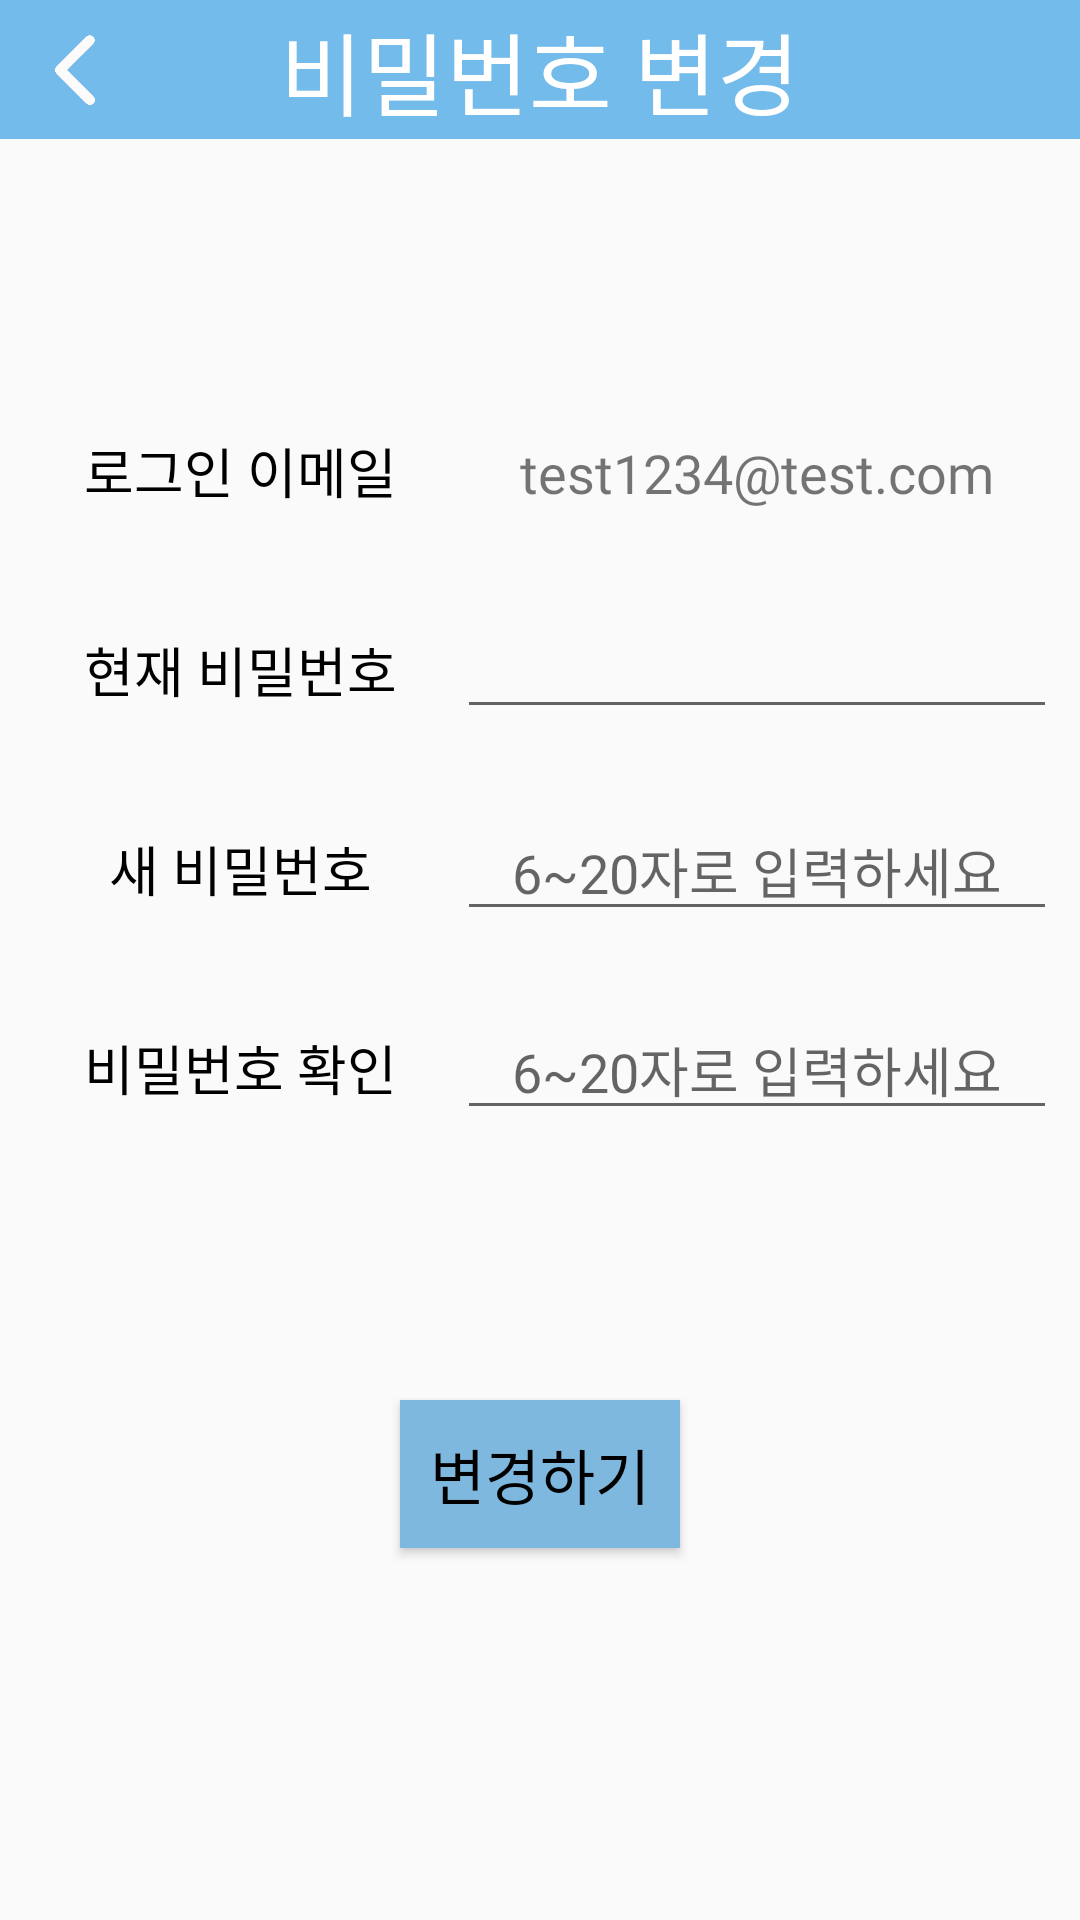

Icon bounding boxes for this 1080px x 1920px phone screenshot, format bbox=(x1, y1, x2, y2):
previous: bbox=(55, 35, 95, 105)
